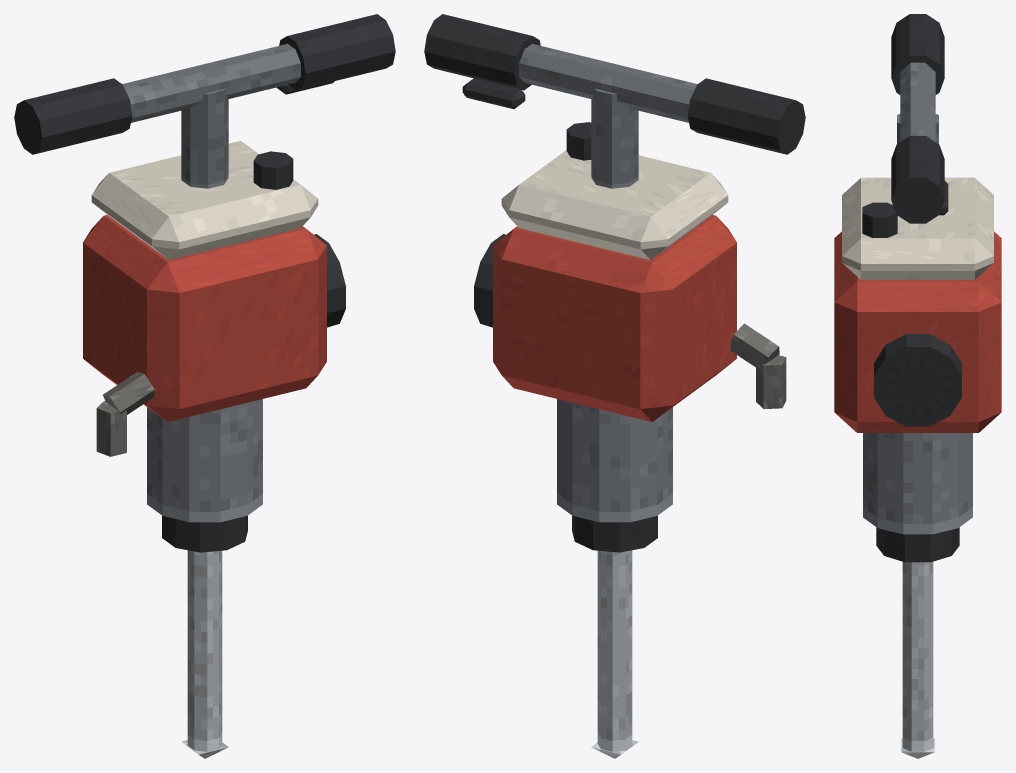
The model's file is jackhammer.glb.
3 renders of one model, left to right at view 1: azimuth 30°, elevation 25°; view 2: azimuth 150°, elevation 25°; view 3: azimuth 270°, elevation 25°, orthographic. The views are drawn at different scales.
Visible parts, largest first — view 1: block_motor housing, block_fuel tank, block_percussion barrel, block_rubber grip (×2), block_chisel bit, block_T handle bar, block_handle stem, block_tool retainer, block_muffler pipe 1, block_fuel cap, block_muffler pipe 0, block_pull starter; view 2: block_motor housing, block_fuel tank, block_percussion barrel, block_rubber grip (×2), block_chisel bit, block_T handle bar, block_handle stem, block_tool retainer, block_muffler pipe 1, block_muffler pipe 0, block_pull starter, block_throttle lever (+1 smaller); view 3: block_motor housing, block_fuel tank, block_percussion barrel, block_rubber grip (×2), block_pull starter, block_chisel bit, block_T handle bar, block_tool retainer, block_fuel cap.
Part boxes in pixels (<box>): block_motor housing: <box>83,215,326,421</box>; block_fuel tank: <box>91,140,318,260</box>; block_percussion barrel: <box>147,399,262,522</box>; block_rubber grip (×2): <box>14,14,395,154</box>; block_chisel bit: <box>187,550,222,751</box>; block_T handle bar: <box>122,43,300,122</box>; block_handle stem: <box>181,88,228,188</box>; block_tool retainer: <box>162,515,247,552</box>; block_muffler pipe 1: <box>96,401,126,456</box>; block_fuel cap: <box>253,151,293,189</box>; block_muffler pipe 0: <box>103,372,154,414</box>; block_pull starter: <box>314,234,345,327</box>; block_motor housing: <box>493,215,736,421</box>; block_fuel tank: <box>501,150,728,260</box>; block_percussion barrel: <box>557,399,672,522</box>; block_rubber grip (×2): <box>424,14,805,154</box>; block_chisel bit: <box>597,550,632,751</box>; block_T handle bar: <box>519,43,697,122</box>; block_handle stem: <box>591,88,638,188</box>; block_tool retainer: <box>572,515,657,552</box>; block_muffler pipe 1: <box>756,355,786,408</box>; block_muffler pipe 0: <box>730,323,779,370</box>; block_pull starter: <box>474,234,505,327</box>; block_throttle lever: <box>462,78,525,109</box>; block_motor housing: <box>834,231,1001,432</box>; block_fuel tank: <box>842,177,993,279</box>; block_percussion barrel: <box>863,433,972,534</box>; block_rubber grip (×2): <box>891,14,944,223</box>; block_pull starter: <box>874,334,961,426</box>; block_chisel bit: <box>902,562,933,751</box>; block_T handle bar: <box>900,62,935,141</box>; block_tool retainer: <box>876,527,959,562</box>; block_fuel cap: <box>862,202,897,237</box>.
Bounding box in the file's own units: 0.4288 × 0.81 × 0.185.
Materials: 2 (2 with a texture image).
